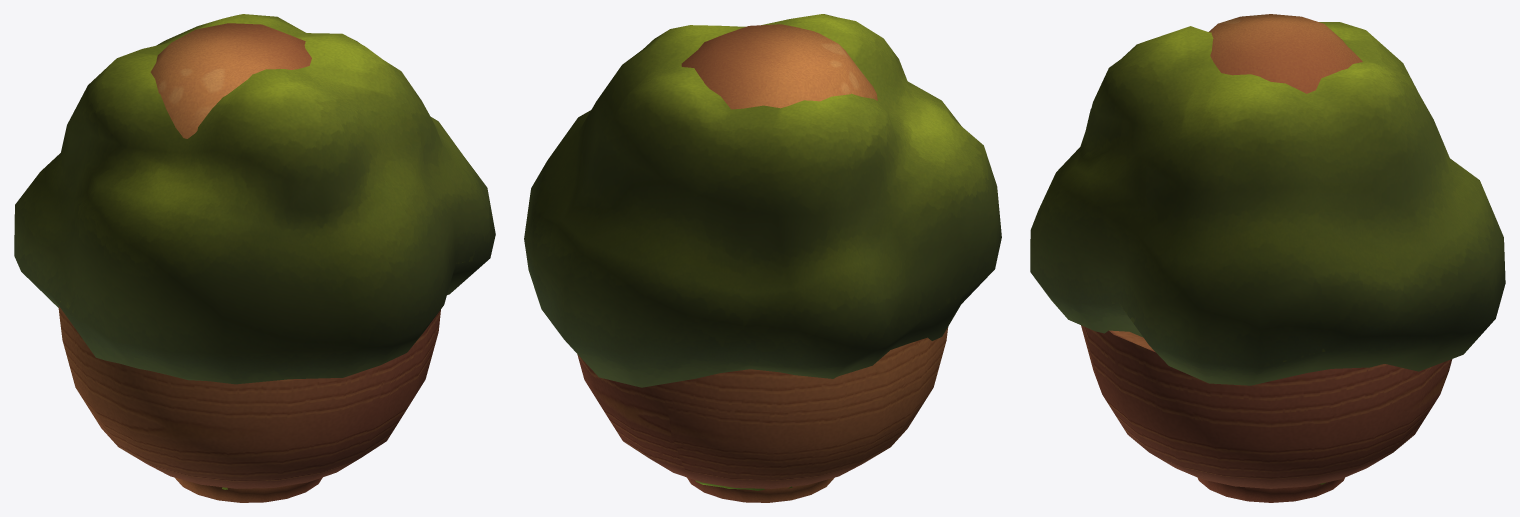
The model's file is foods.gltf.
The picture shows the model from 3 angles, left to right: view 1: azimuth 30°, elevation 25°; view 2: azimuth 150°, elevation 25°; view 3: azimuth 270°, elevation 25°; orthographic projection.
Parts seen in each view (by area): view 1: broccoli_GEO:PIV, rice_GEO:PIV, drumbstick_GEO:PIV; view 2: broccoli_GEO:PIV, rice_GEO:PIV, drumbstick_GEO:PIV; view 3: broccoli_GEO:PIV, rice_GEO:PIV, drumbstick_GEO:PIV.
Part boxes in pixels (x1=…): broccoli_GEO:PIV: x1=14, y1=14, x2=495, y2=489; rice_GEO:PIV: x1=58, y1=306, x2=440, y2=502; drumbstick_GEO:PIV: x1=150, y1=23, x2=311, y2=138; broccoli_GEO:PIV: x1=524, y1=14, x2=1001, y2=490; rice_GEO:PIV: x1=577, y1=327, x2=948, y2=502; drumbstick_GEO:PIV: x1=681, y1=24, x2=877, y2=109; broccoli_GEO:PIV: x1=1030, y1=22, x2=1505, y2=484; rice_GEO:PIV: x1=1081, y1=325, x2=1452, y2=502; drumbstick_GEO:PIV: x1=1209, y1=14, x2=1362, y2=93.
Bounding box in the file's own units: 54.97 × 56.94 × 56.51.
Materials: 1 (1 with a texture image).
